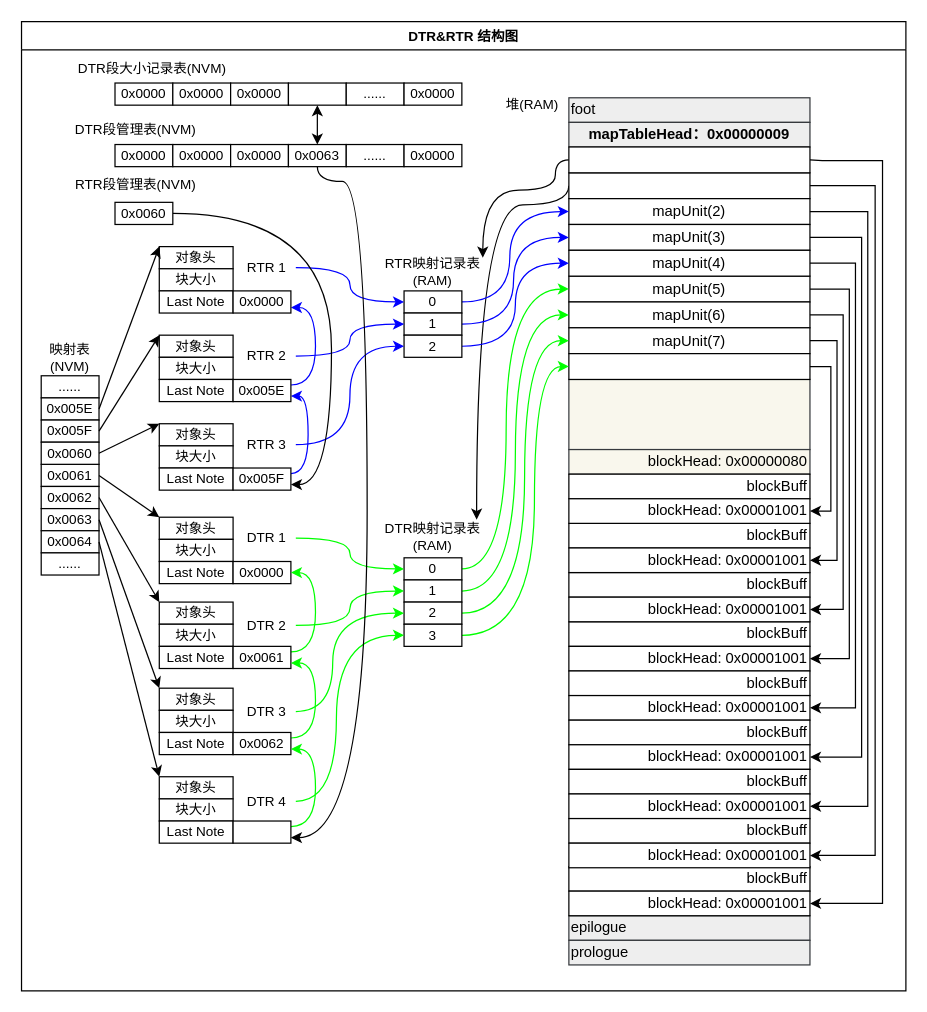
This 927x1012 diagram has some shape labels left out. Here are the shapes that lost their labels. From the top down, the centre of each, then its label:
At point 316,93: "段大小".
At point 689,159: "mapUnit(0)".
At point 689,185: "mapUnit(1)".
At point 689,365: "mapUnit(8)".
At point 689,414: "ShareBuff".
At point 261,831: "0x00063".
